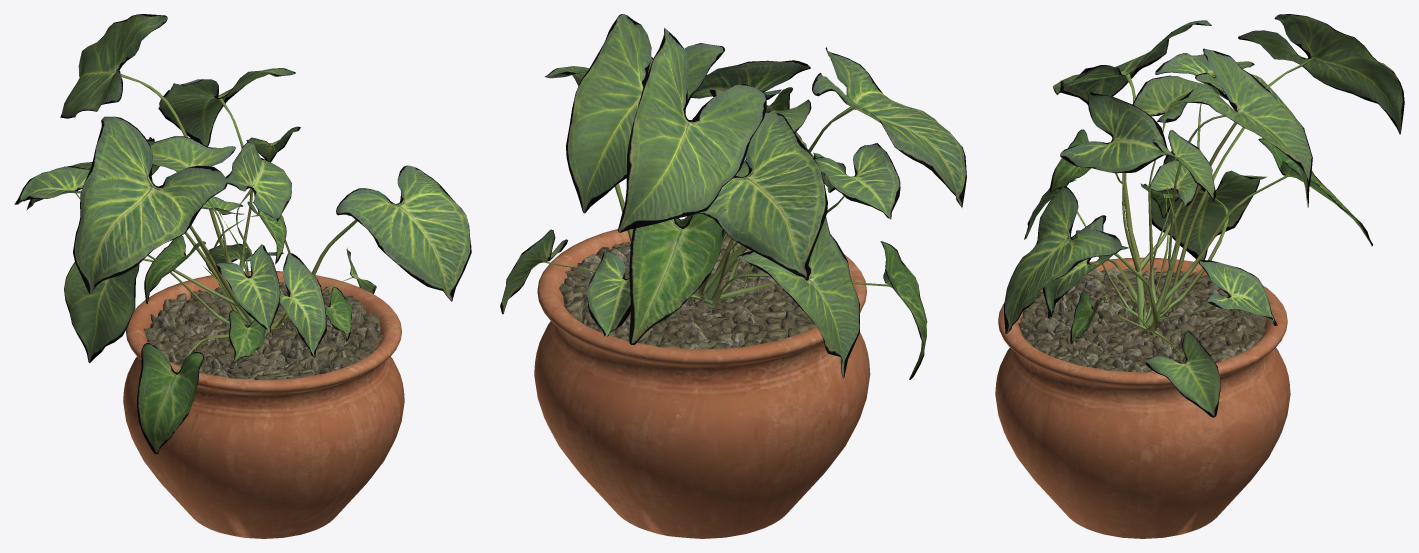
The model's file is potted_plant_02.glb.
3 renders of one model, left to right at view 1: azimuth 30°, elevation 25°; view 2: azimuth 150°, elevation 25°; view 3: azimuth 270°, elevation 25°, orthographic. The views are drawn at different scales.
Parts seen in each view (by area): view 1: potted_plant_02_leaves, potted_plant_02_pot; view 2: potted_plant_02_leaves, potted_plant_02_pot; view 3: potted_plant_02_pot, potted_plant_02_leaves.
Part boxes in pixels (x1,y1,x2,y2): potted_plant_02_leaves: (14,14,471,453); potted_plant_02_pot: (123,271,404,538); potted_plant_02_leaves: (500,14,966,379); potted_plant_02_pot: (534,219,870,538); potted_plant_02_pot: (995,257,1290,538); potted_plant_02_leaves: (1004,14,1404,417).
Size of the model in its own units: 0.7012 by 0.8412 by 0.6574.
2 materials, 2 textured.
